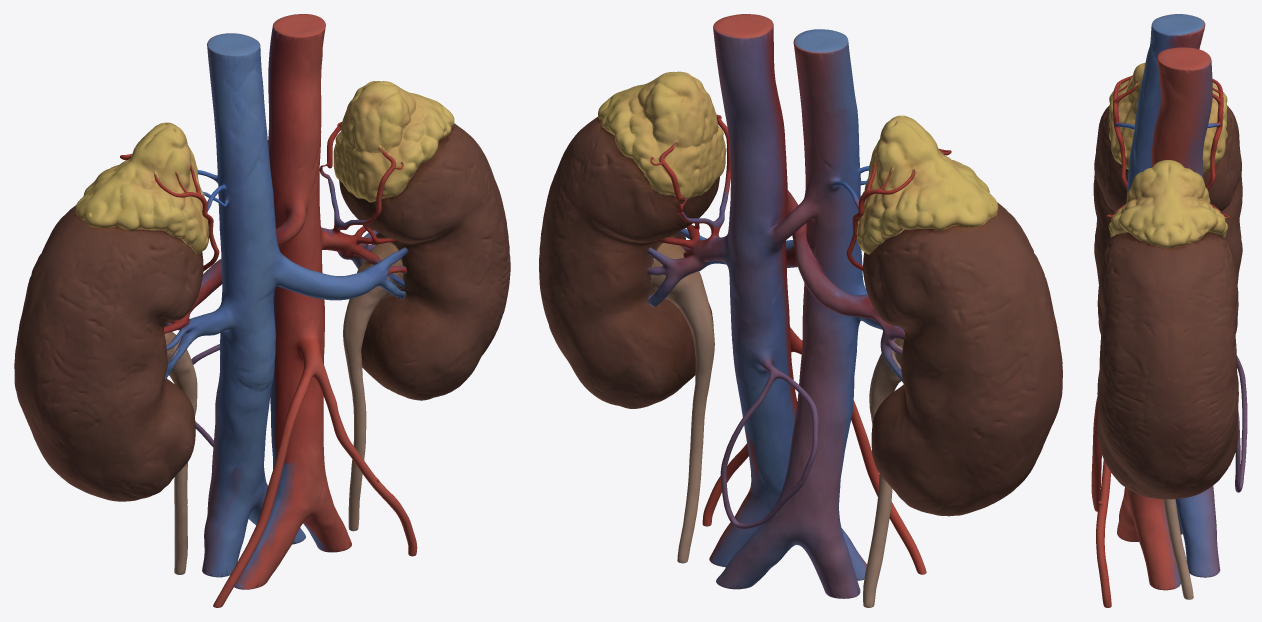
File: kidney-v2.glb
3 views of the same model, side by side, from view 1: azimuth 30°, elevation 25°; view 2: azimuth 150°, elevation 25°; view 3: azimuth 270°, elevation 25° (orthographic). The views are drawn at different scales.
Visible parts, largest first — view 1: tripo_node_01ec67bc-25fd-4cad-b54c-d2d03813c8e9; view 2: tripo_node_01ec67bc-25fd-4cad-b54c-d2d03813c8e9; view 3: tripo_node_01ec67bc-25fd-4cad-b54c-d2d03813c8e9.
Boxes of the visible parts, box(x1,y1,x2,y2) form: tripo_node_01ec67bc-25fd-4cad-b54c-d2d03813c8e9: box(14, 14, 510, 607); tripo_node_01ec67bc-25fd-4cad-b54c-d2d03813c8e9: box(539, 14, 1062, 607); tripo_node_01ec67bc-25fd-4cad-b54c-d2d03813c8e9: box(1091, 14, 1247, 607).
Bounding box in the file's own units: 0.9583 × 1 × 0.2749.
1 material, 1 textured.
